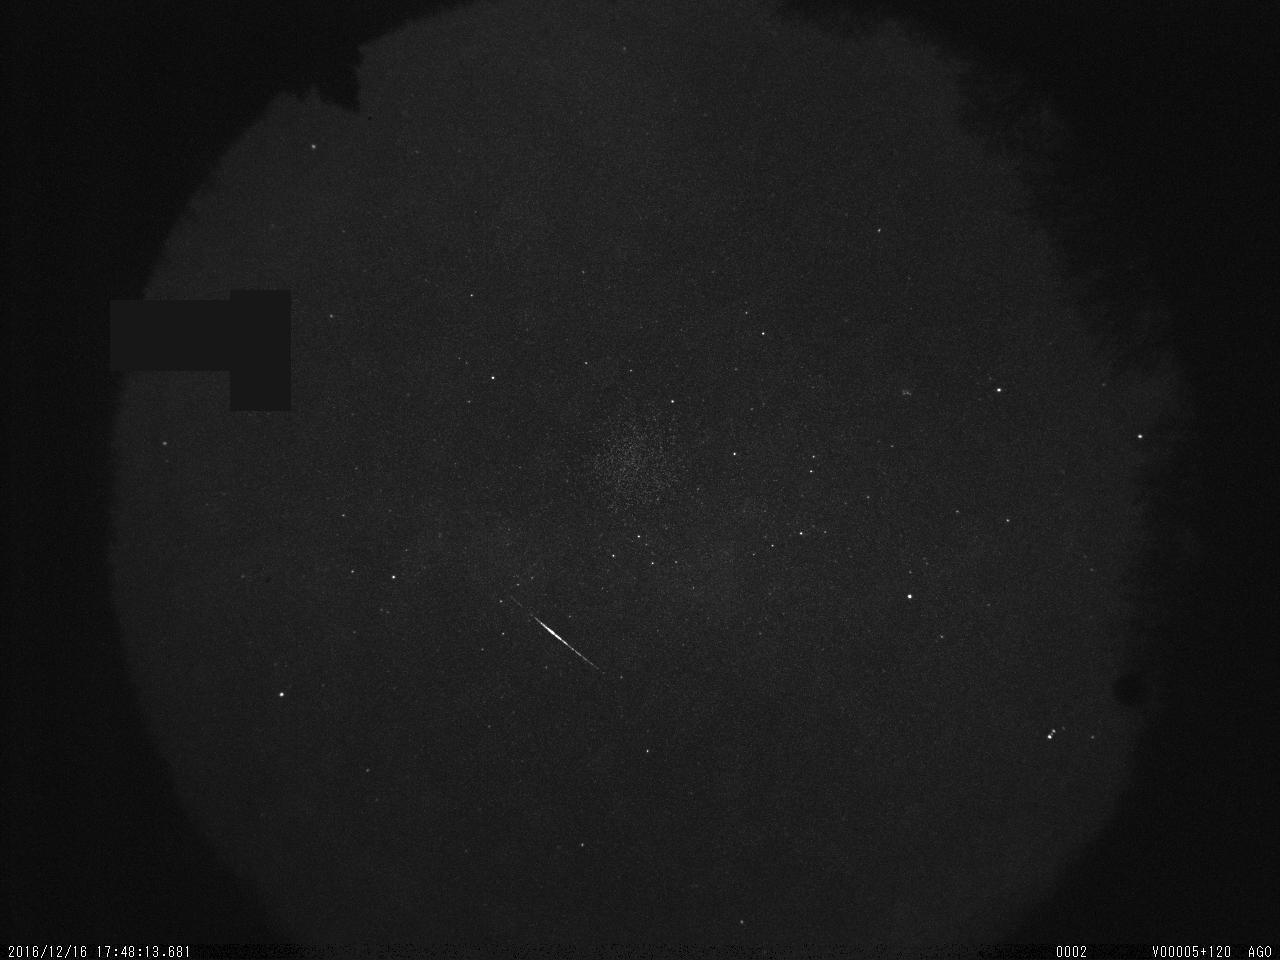Meteor: (502, 589, 616, 689)
